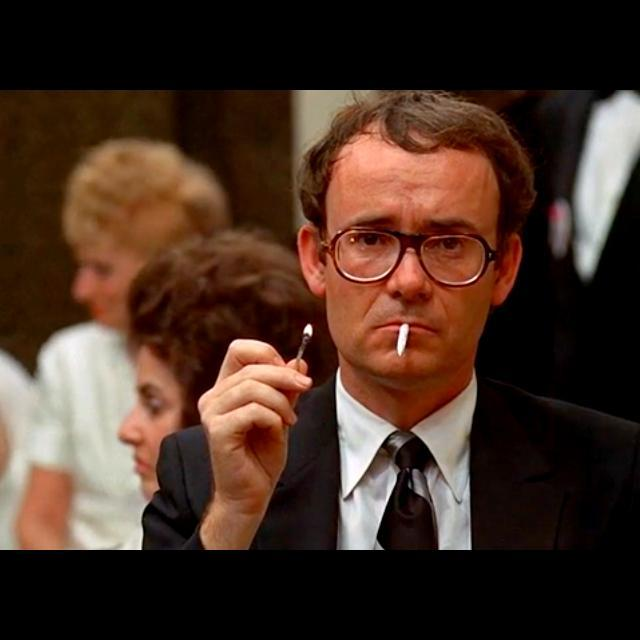rokok: (392, 320, 412, 364)
